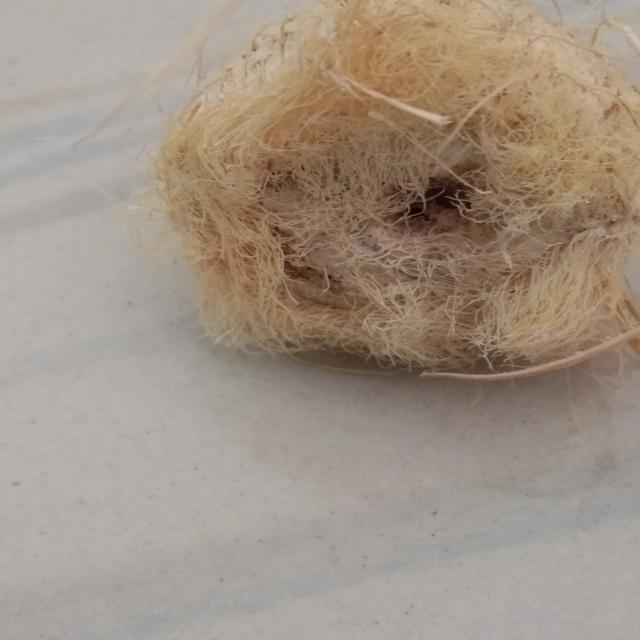phatora: (157, 0, 640, 374)
